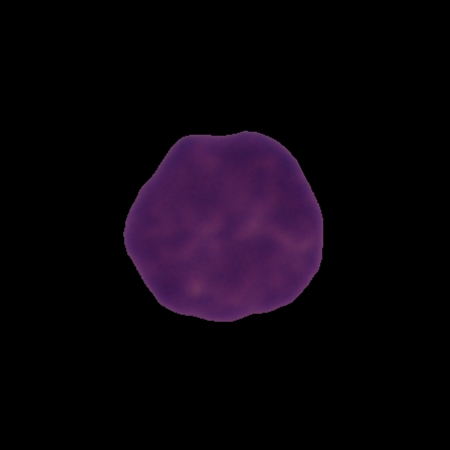HEM: (120, 127, 328, 325)
